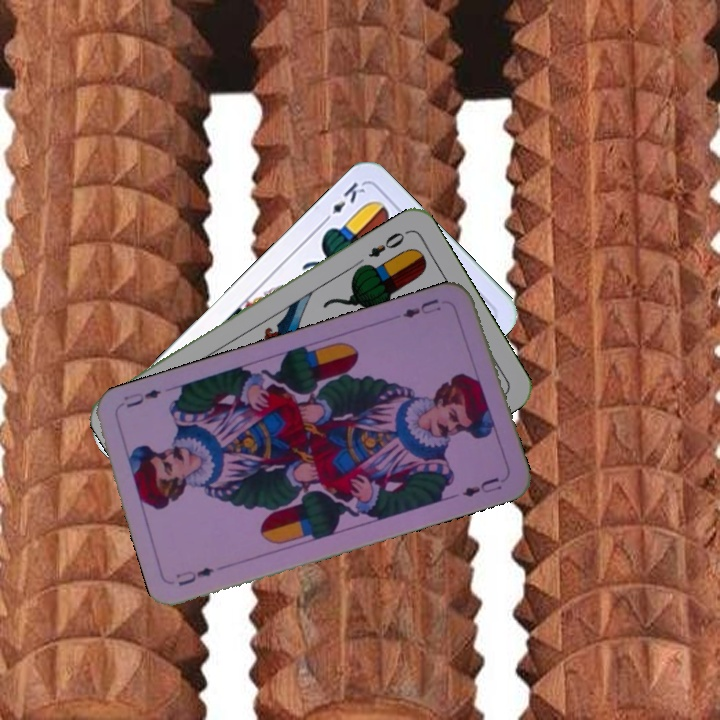EK: (318, 177, 368, 227)
EO: (364, 226, 411, 260)
EU: (398, 294, 444, 321), (171, 563, 217, 589)
